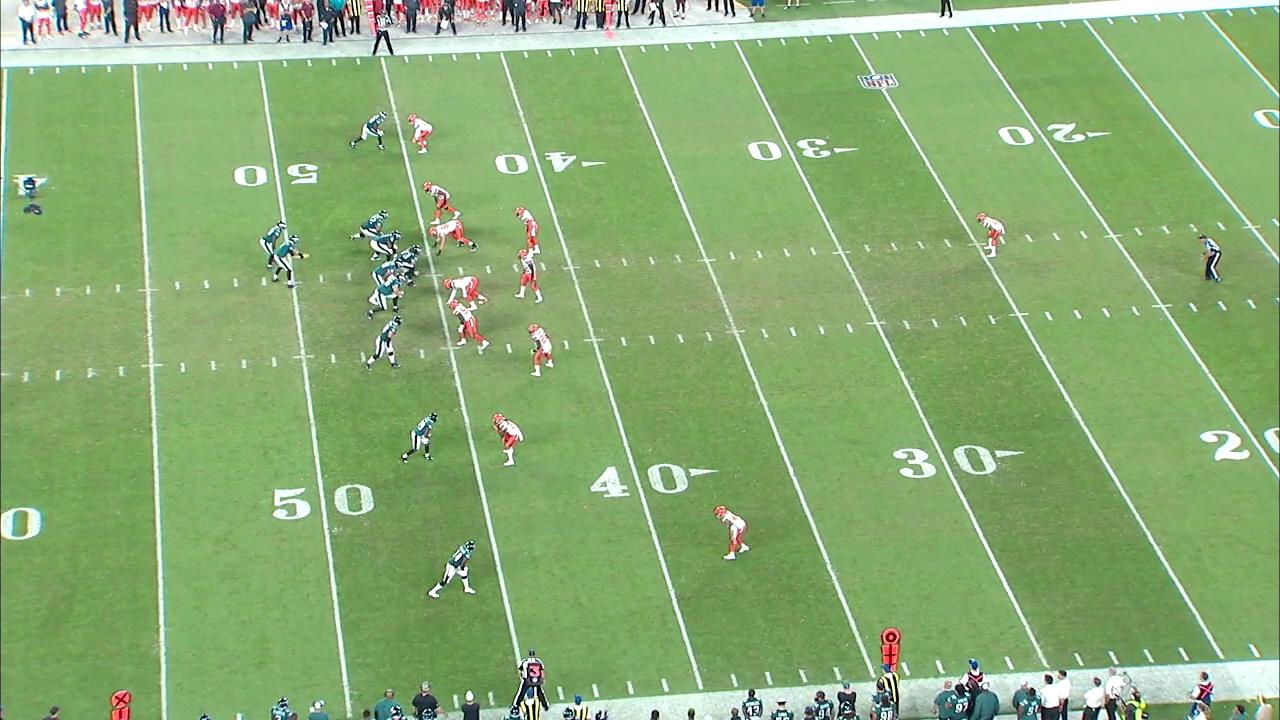defense: (712, 504, 751, 564), (447, 298, 491, 351), (427, 218, 479, 258), (512, 248, 545, 306), (491, 412, 524, 469), (422, 180, 462, 226), (442, 274, 489, 312), (526, 322, 556, 378), (514, 205, 542, 260), (976, 211, 1006, 260), (406, 112, 435, 155)
oline: (365, 272, 406, 321), (343, 208, 391, 247), (366, 259, 403, 306), (392, 244, 423, 288), (368, 229, 403, 262)
qb: (269, 233, 312, 290)
ref: (509, 649, 552, 713), (1195, 231, 1225, 286), (369, 8, 397, 57)
skill: (425, 538, 479, 601), (364, 314, 404, 374), (398, 410, 440, 466), (348, 109, 389, 152), (258, 220, 289, 271)
